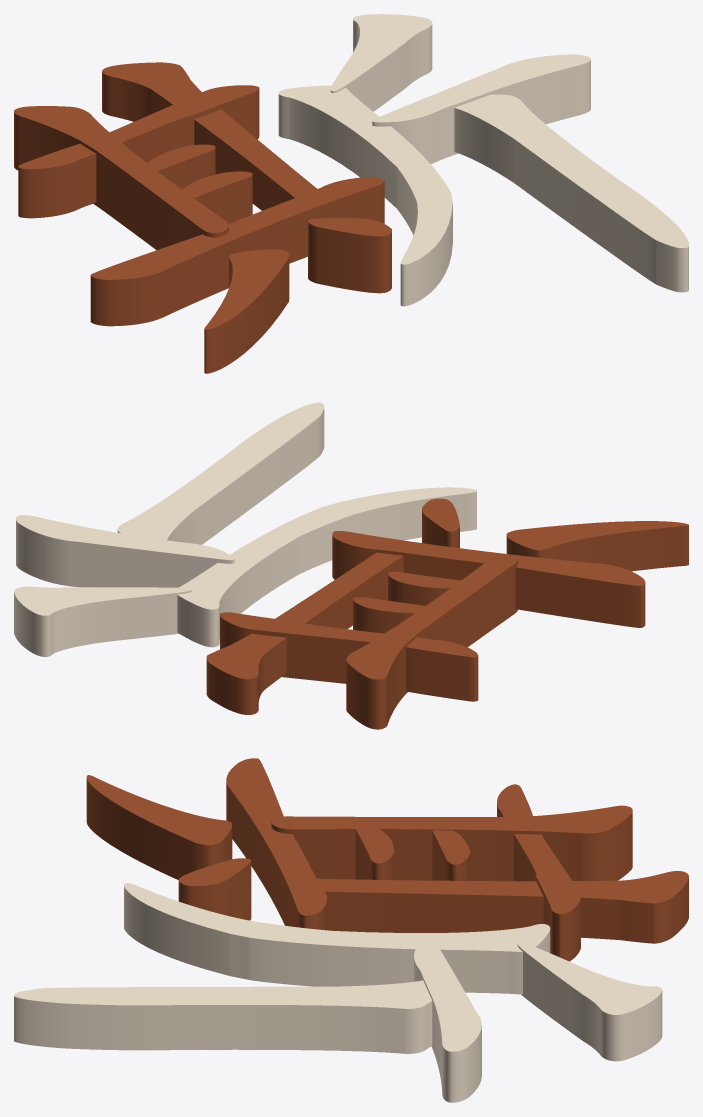
The model's file is hanzi156.fbx.
3 renders of one model, top to bottom at view 1: azimuth 30°, elevation 25°; view 2: azimuth 150°, elevation 25°; view 3: azimuth 270°, elevation 25°, orthographic. The views are drawn at different scales.
Visible parts, largest first — view 1: Curve.011, Curve.005, Curve.009, Curve.001, Curve, Curve.002, Curve.010, Curve.006, Curve.008, Curve.007, Curve.004, Curve.003; view 2: Curve.009, Curve.005, Curve.011, Curve.001, Curve.010, Curve, Curve.008, Curve.002, Curve.006, Curve.004, Curve.003, Curve.007; view 3: Curve.011, Curve.009, Curve.002, Curve.001, Curve.008, Curve.006, Curve.005, Curve.010, Curve, Curve.007, Curve.004, Curve.003.
Part boxes in pixels (x1,y1,x2,y2): Curve.011: (454, 94, 688, 292); Curve.005: (90, 177, 384, 326); Curve.009: (278, 85, 452, 306); Curve.001: (14, 106, 228, 250); Curve: (18, 85, 259, 218); Curve.002: (102, 62, 316, 210); Curve.010: (372, 54, 590, 163); Curve.006: (204, 249, 289, 373); Curve.008: (330, 14, 432, 111); Curve.007: (308, 218, 391, 293); Curve.004: (177, 171, 252, 223); Curve.003: (148, 144, 215, 189); Curve.009: (177, 487, 476, 647); Curve.005: (332, 531, 645, 627); Curve.011: (117, 402, 324, 544); Curve.001: (346, 555, 517, 729); Curve.010: (16, 515, 234, 587); Curve: (220, 612, 478, 701); Curve.008: (14, 586, 191, 656); Curve.002: (206, 552, 403, 714); Curve.006: (506, 521, 688, 571); Curve.004: (388, 571, 471, 605); Curve.003: (353, 597, 424, 633); Curve.007: (422, 498, 459, 548); Curve.011: (14, 980, 432, 1053); Curve.009: (124, 883, 550, 994); Curve.002: (317, 871, 688, 943); Curve.001: (271, 805, 632, 881); Curve.008: (517, 942, 662, 1061); Curve.006: (86, 775, 232, 879); Curve.005: (226, 758, 326, 930); Curve.010: (414, 938, 481, 1102); Curve: (497, 784, 580, 961); Curve.007: (178, 858, 251, 920); Curve.004: (354, 822, 393, 879); Curve.003: (432, 830, 469, 880).
Bounding box in the file's own units: 25.67 × 24.78 × 2.34.
